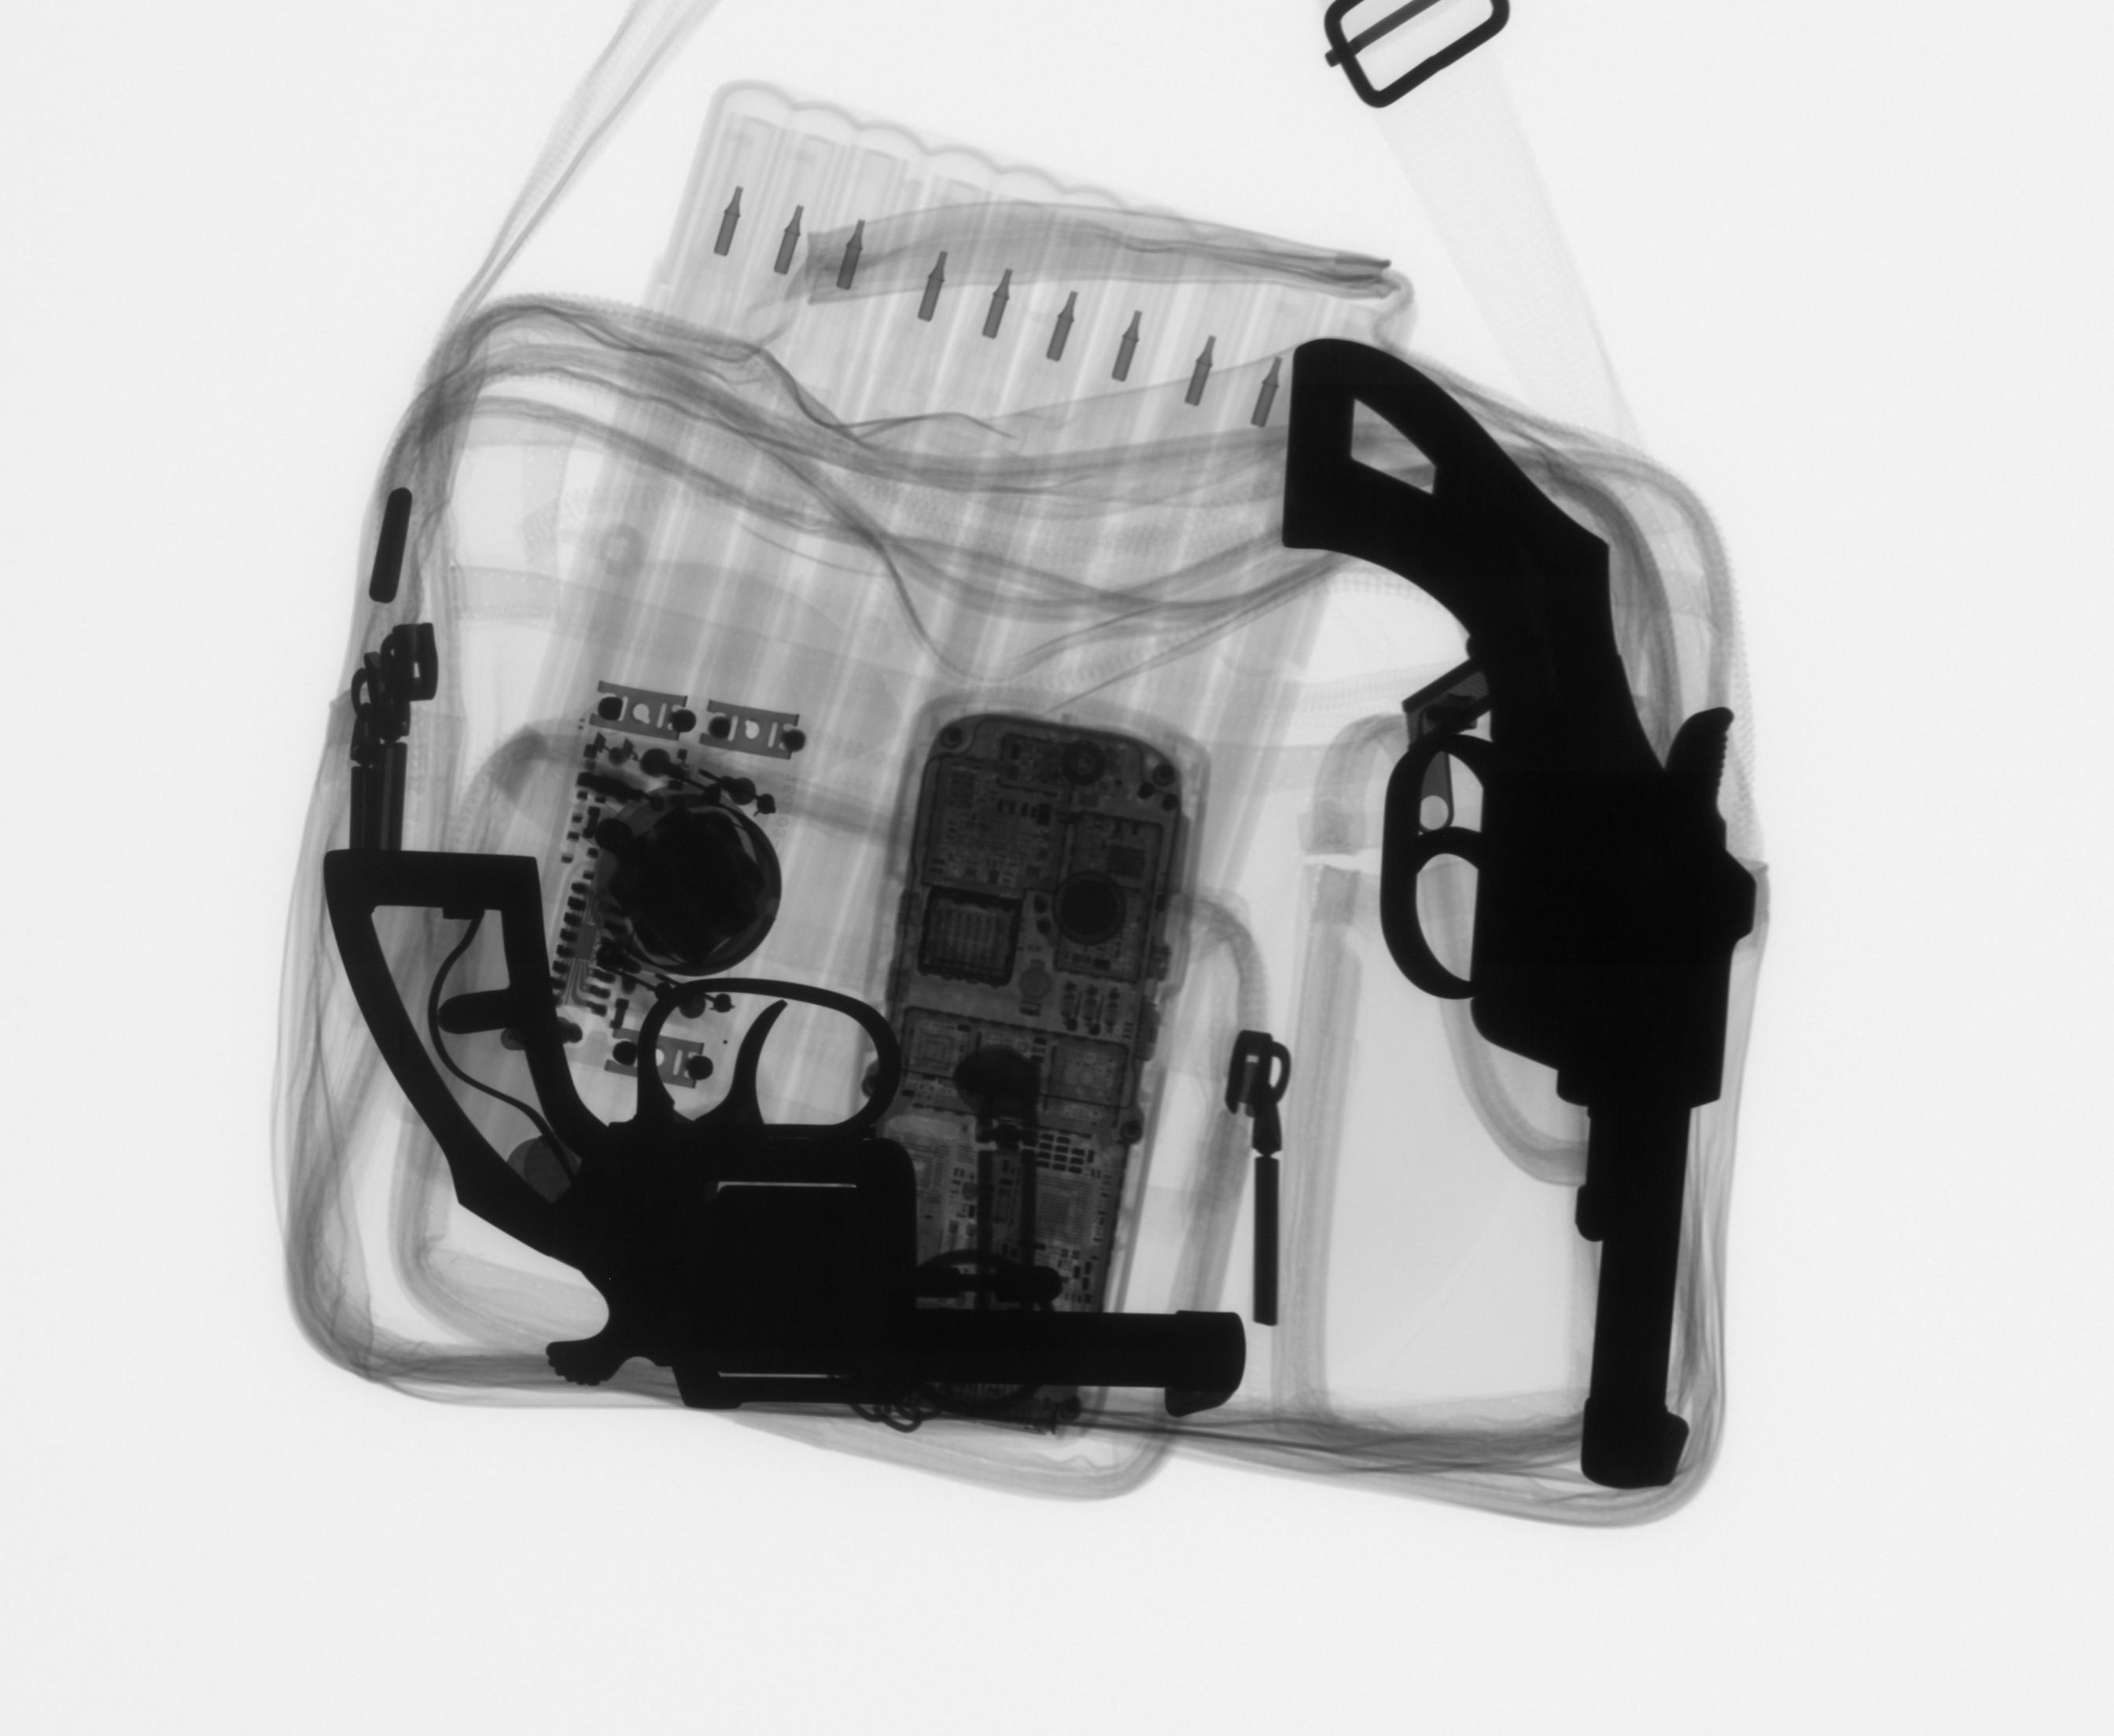Handgun: (300, 830, 1289, 1481), (1254, 312, 1780, 1515)
